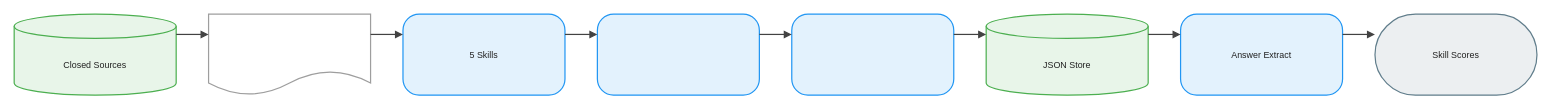
Image size: 1552x110. Some labels were removed from this diagram. Here are the shapes that lost their labels. From the top down, the box of each, then its label:
(208, 13, 371, 95): Image Items
(596, 13, 760, 95): 9 Caps
(791, 13, 954, 95): Human Labels
